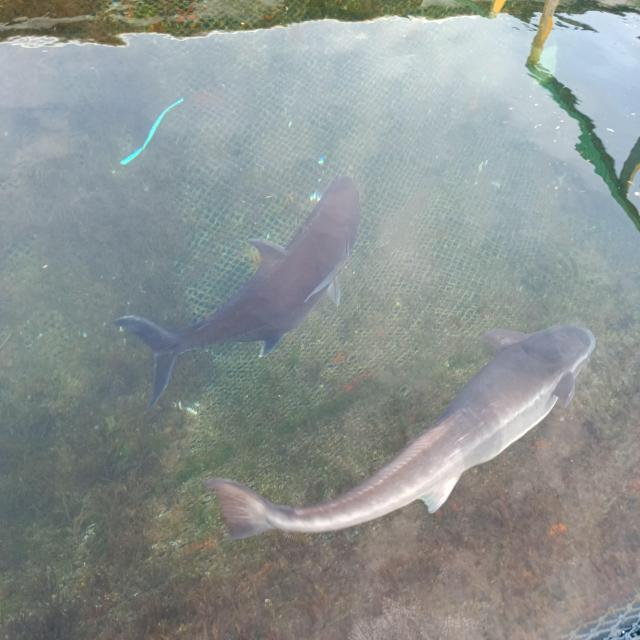ikan: (204, 322, 596, 542), (111, 173, 361, 412)
